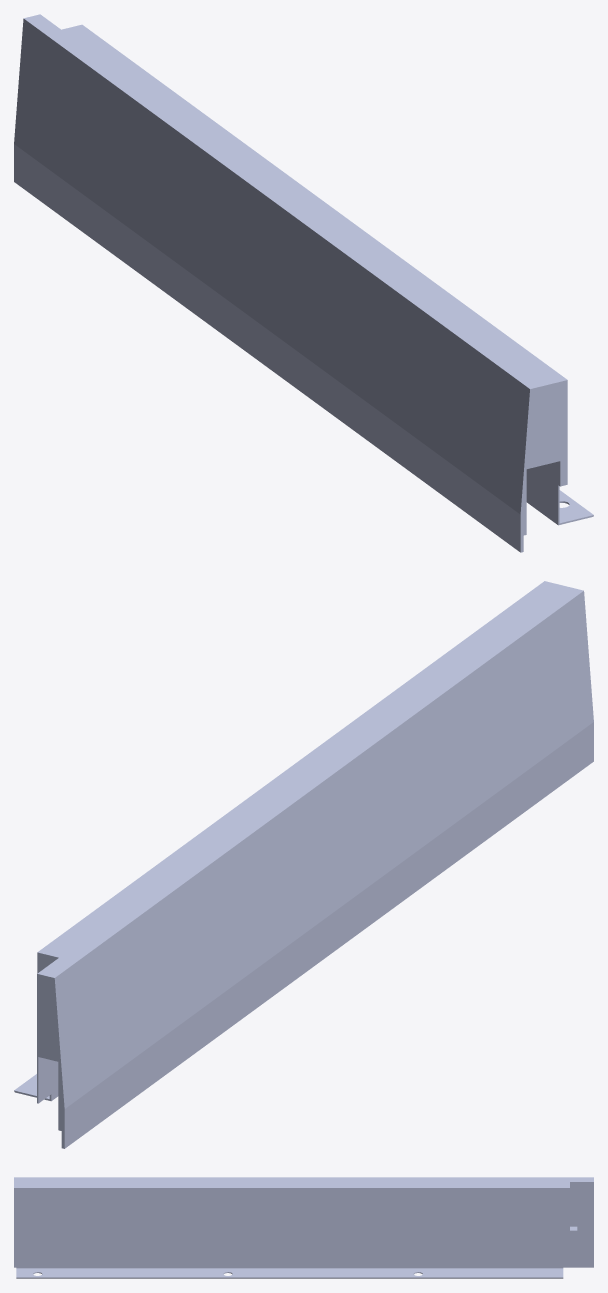
File: mv-kava-N400-p.glb
The picture shows the model from 3 angles, top to bottom: view 1: azimuth 30°, elevation 25°; view 2: azimuth 150°, elevation 25°; view 3: azimuth 270°, elevation 25°; orthographic projection. The views are drawn at different scales.
Parts seen in each view (by area): view 1: 42891931; view 2: 42891931; view 3: 42891931.
Boxes of the visible parts, left/top/right/bottom form: 42891931: left=14, top=14, right=593, bottom=552; 42891931: left=14, top=581, right=593, bottom=1148; 42891931: left=14, top=1177, right=593, bottom=1278.
Size of the model in its own units: 0.0335 by 0.0685 by 0.3902.
